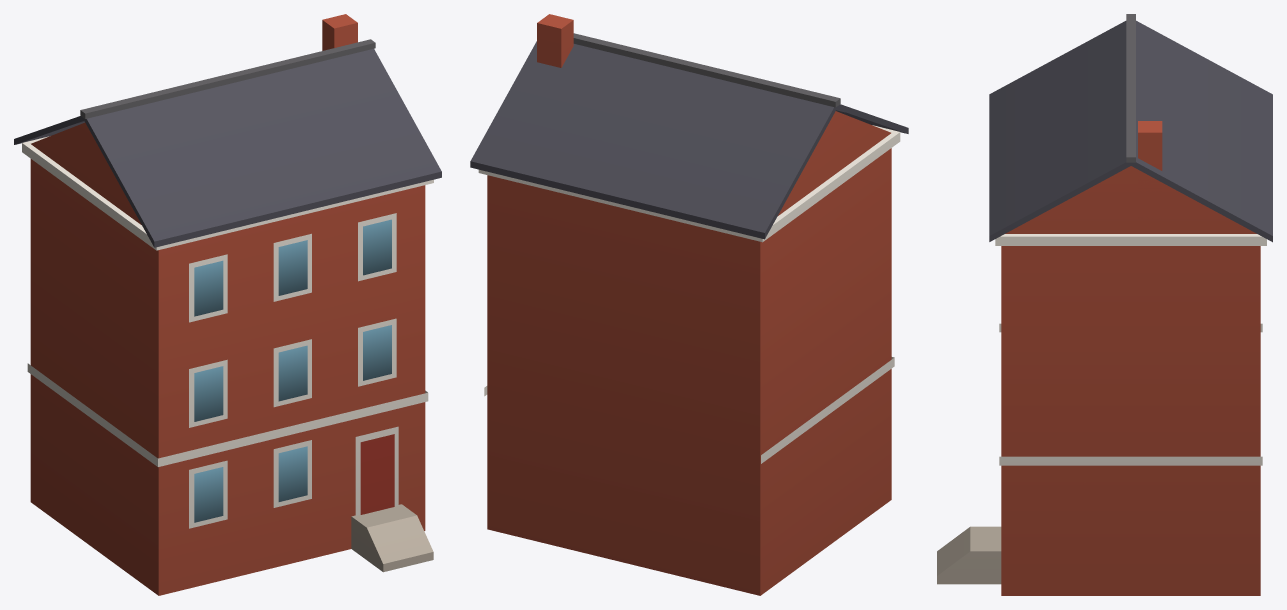
The model's file is lane_w9_far.glb.
3 views of the same model, side by side, from view 1: azimuth 30°, elevation 25°; view 2: azimuth 150°, elevation 25°; view 3: azimuth 270°, elevation 25° (orthographic). The views are drawn at different scales.
Visible parts, largest first — view 1: lane_w9_far; view 2: lane_w9_far; view 3: lane_w9_far.
Boxes of the visible parts, box(x1,y1,x2,y2) form: lane_w9_far: box(14, 14, 441, 595); lane_w9_far: box(470, 14, 908, 595); lane_w9_far: box(937, 14, 1272, 595).
Bounding box in the file's own units: 9.8 × 14.79 × 9.71.
Materials: 1 (1 with a texture image).
